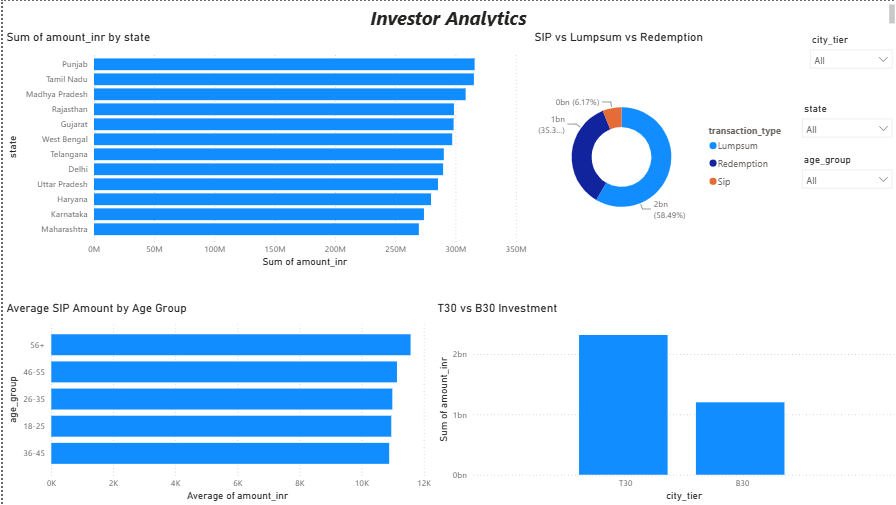

The dashboard page shown, as its layout file describes it:
{"tool":"powerbi","page":{"name":"Investor Analytics","canvas":[1280,720],"ordinal":2},"visuals":[{"type":"donutChart","title":"SIP vs Lumpsum vs Redemption","fields":{"Category":["clean_transactions.transaction_type"],"Y":["Sum(clean_transactions.amount_inr)"]},"box":[753.7,41,377.6,343.9],"z":0},{"type":"clusteredBarChart","title":"Average SIP Amount by Age Group","fields":{"Category":["clean_transactions.age_group"],"Y":["Avg(clean_transactions.amount_inr)"]},"box":[0,428.8,616.1,291.2],"z":1000},{"type":"clusteredColumnChart","title":"T30 vs B30 Investment","fields":{"Category":["clean_transactions.city_tier"],"Y":["Sum(clean_transactions.amount_inr)"]},"box":[616.1,428.8,662.9,291.2],"z":2000},{"type":"clusteredBarChart","fields":{"Category":["clean_transactions.state"],"Y":["Sum(clean_transactions.amount_inr)"]},"box":[0,41,753.7,343.9],"z":3000},{"type":"slicer","fields":{"Values":["clean_transactions.state"]},"box":[1131.2,140.5,149.3,71.7],"z":4000},{"type":"slicer","fields":{"Values":["clean_transactions.age_group"]},"box":[1131.2,212.2,149.3,79],"z":5000},{"type":"slicer","fields":{"Values":["clean_transactions.city_tier"]},"box":[1142.9,41,137.6,71.7],"z":6000},{"type":"textbox","box":[0,0,1279,41],"z":7000}]}

Visuals, with their boxes in screenshot pixels (x1, y1, x2, y2), scaled from the page's 1280x720 canvas onto the 896x505 screenshot:
"SIP vs Lumpsum vs Redemption" donutChart: x1=528 y1=29 x2=792 y2=270
"Average SIP Amount by Age Group" clusteredBarChart: x1=0 y1=301 x2=431 y2=504
"T30 vs B30 Investment" clusteredColumnChart: x1=431 y1=301 x2=895 y2=504
clusteredBarChart - clean_transactions.state x Sum(clean_transactions.amount_inr): x1=0 y1=29 x2=528 y2=270
slicer - clean_transactions.state: x1=792 y1=99 x2=895 y2=149
slicer - clean_transactions.age_group: x1=792 y1=149 x2=895 y2=204
slicer - clean_transactions.city_tier: x1=800 y1=29 x2=895 y2=79
textbox: x1=0 y1=0 x2=895 y2=29
